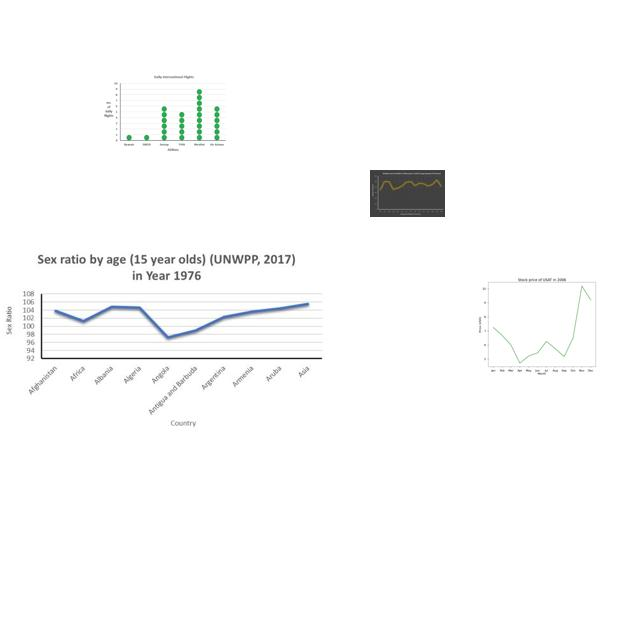Graph: (4, 247, 325, 432), (460, 269, 620, 379), (103, 74, 226, 153), (370, 170, 445, 217)
